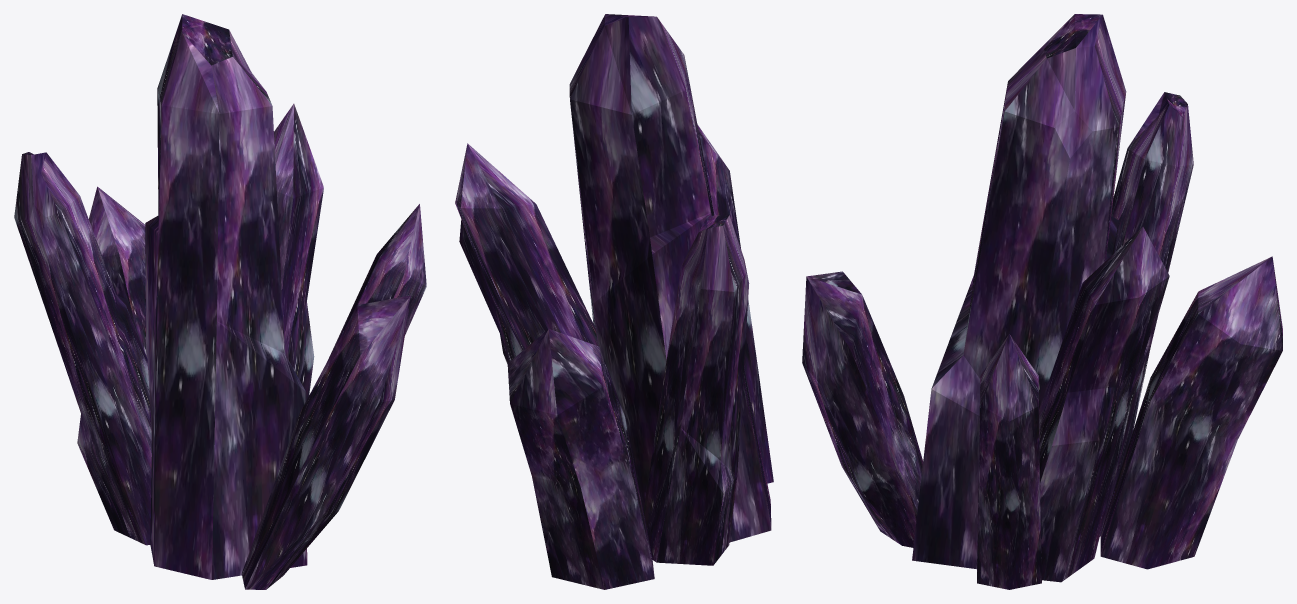
File: AMETHYST_CRYSTAL.glb
3 renders of one model, left to right at view 1: azimuth 30°, elevation 25°; view 2: azimuth 150°, elevation 25°; view 3: azimuth 270°, elevation 25°, orthographic. The views are drawn at different scales.
Visible parts, largest first — view 1: AMETHYST_CRYSTAL; view 2: AMETHYST_CRYSTAL; view 3: AMETHYST_CRYSTAL.
Boxes of the visible parts, x1=… form: AMETHYST_CRYSTAL: x1=14, y1=14, x2=426, y2=589; AMETHYST_CRYSTAL: x1=455, y1=14, x2=773, y2=589; AMETHYST_CRYSTAL: x1=802, y1=14, x2=1282, y2=589.
Size of the model in its own units: 0.0979 by 0.1396 by 0.1153.
1 material, 1 textured.
